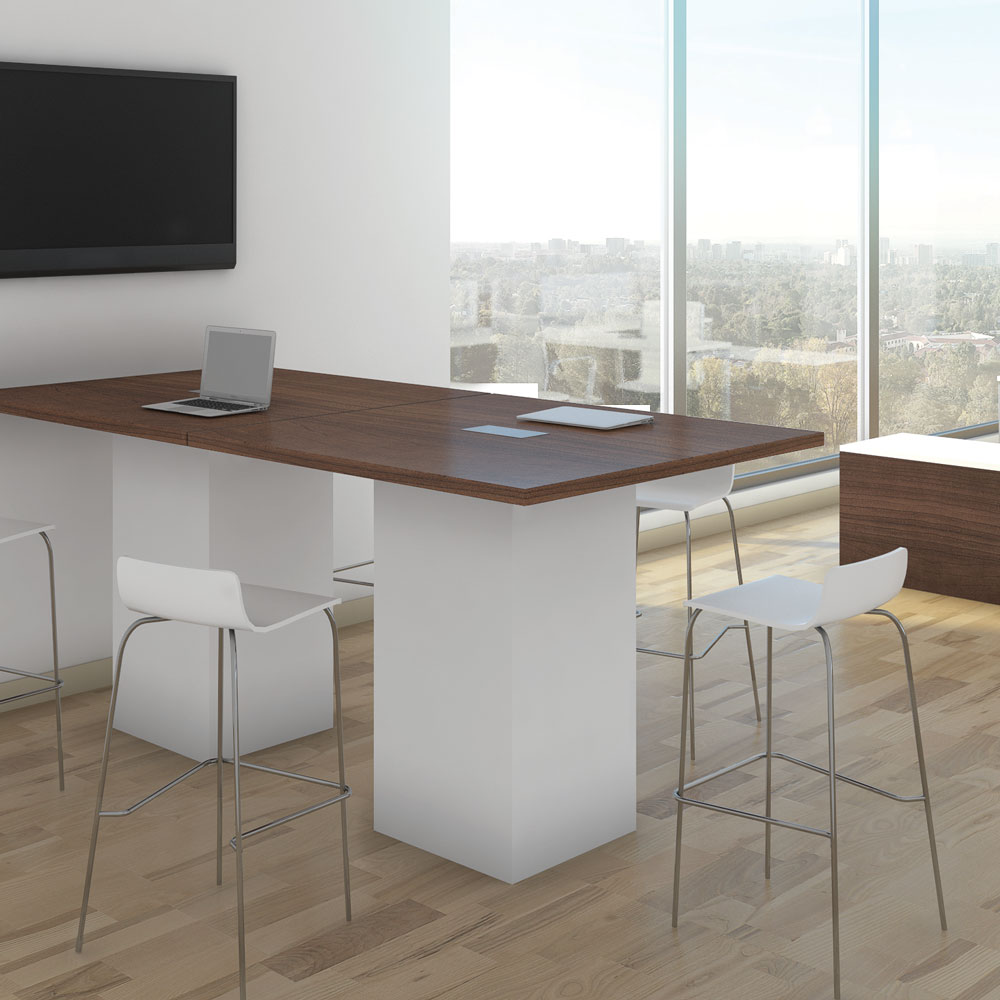conference_table: (1, 363, 825, 885)
